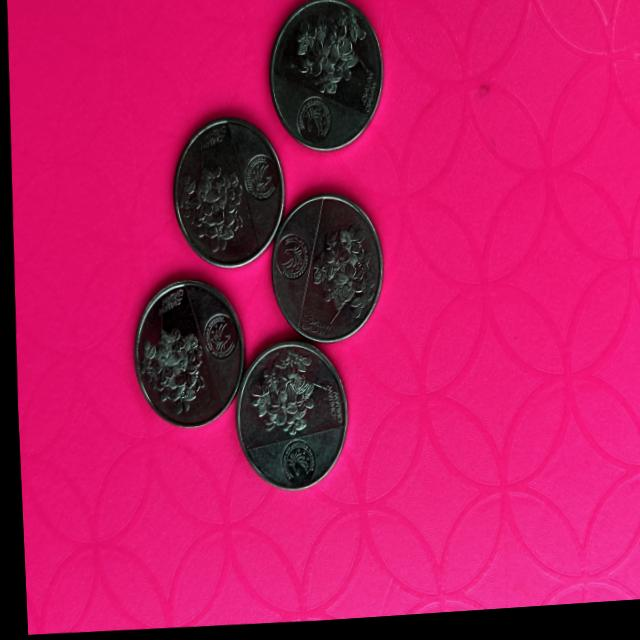1_New_Back: (125, 301, 205, 422), (241, 348, 334, 442), (300, 223, 378, 335), (286, 10, 373, 110), (174, 148, 251, 251)
